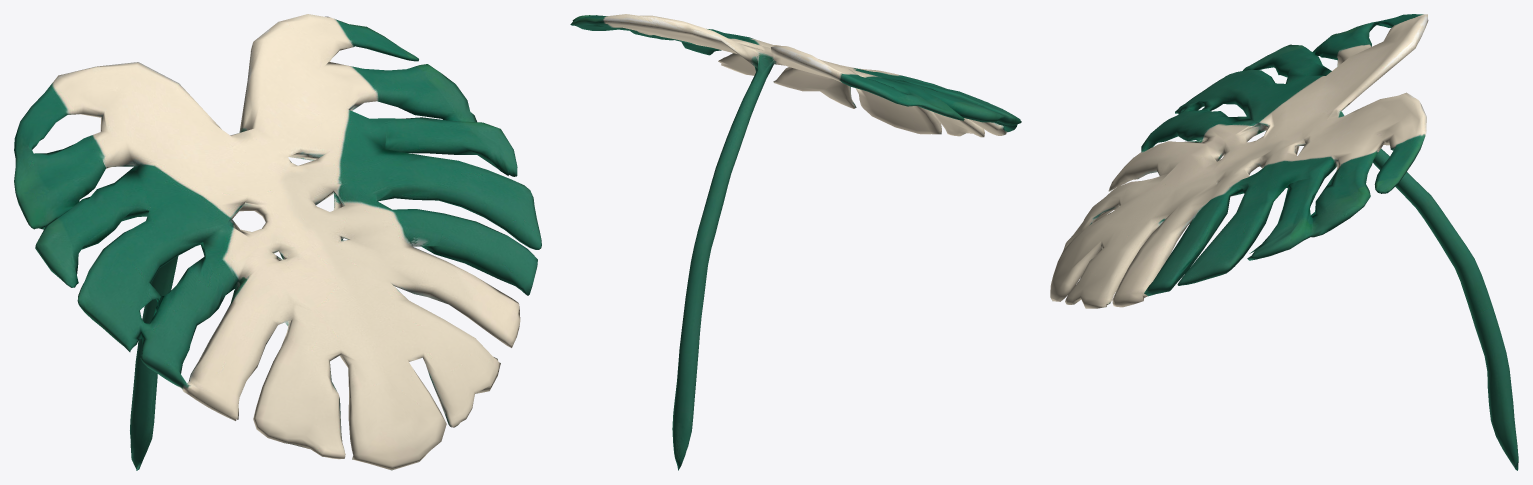
Rendered from mon_halfmoon_greenwhite_v1.glb.
3 renders of one model, left to right at view 1: azimuth 30°, elevation 25°; view 2: azimuth 150°, elevation 25°; view 3: azimuth 270°, elevation 25°, orthographic. The views are drawn at different scales.
Visible parts, largest first — view 1: world; view 2: world; view 3: world.
Part boxes in pixels (bbox=[...]): world: bbox=[14, 14, 541, 470]; world: bbox=[570, 14, 1021, 470]; world: bbox=[1050, 14, 1518, 470].
Size of the model in its own units: 1.99 by 1.91 by 2.
Materials: 1 (1 with a texture image).
